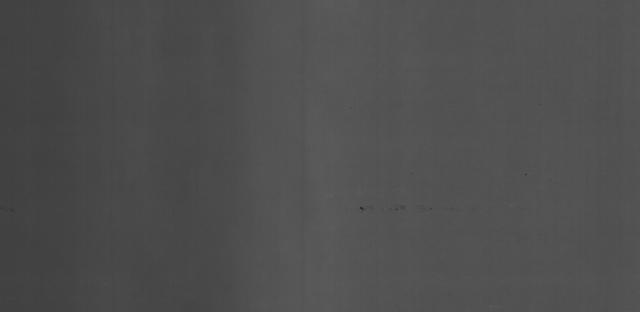inclusion: (354, 201, 370, 219), (385, 202, 410, 213)
